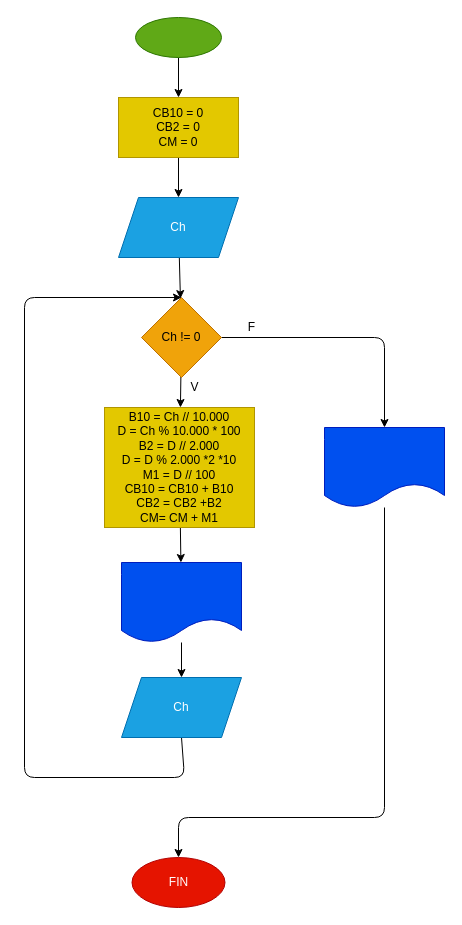
The diagram is 462 pixels wide and 925 high, and some of its shapes have lost their labels. The shapes that lost their labels are listed below. From the top down, each one's centre as x and y in pixels, then its label:
the point at 178,37: INICIO
the point at 384,467: CB10 CB2 M1
the point at 181,602: Ch B2 B10 M1
